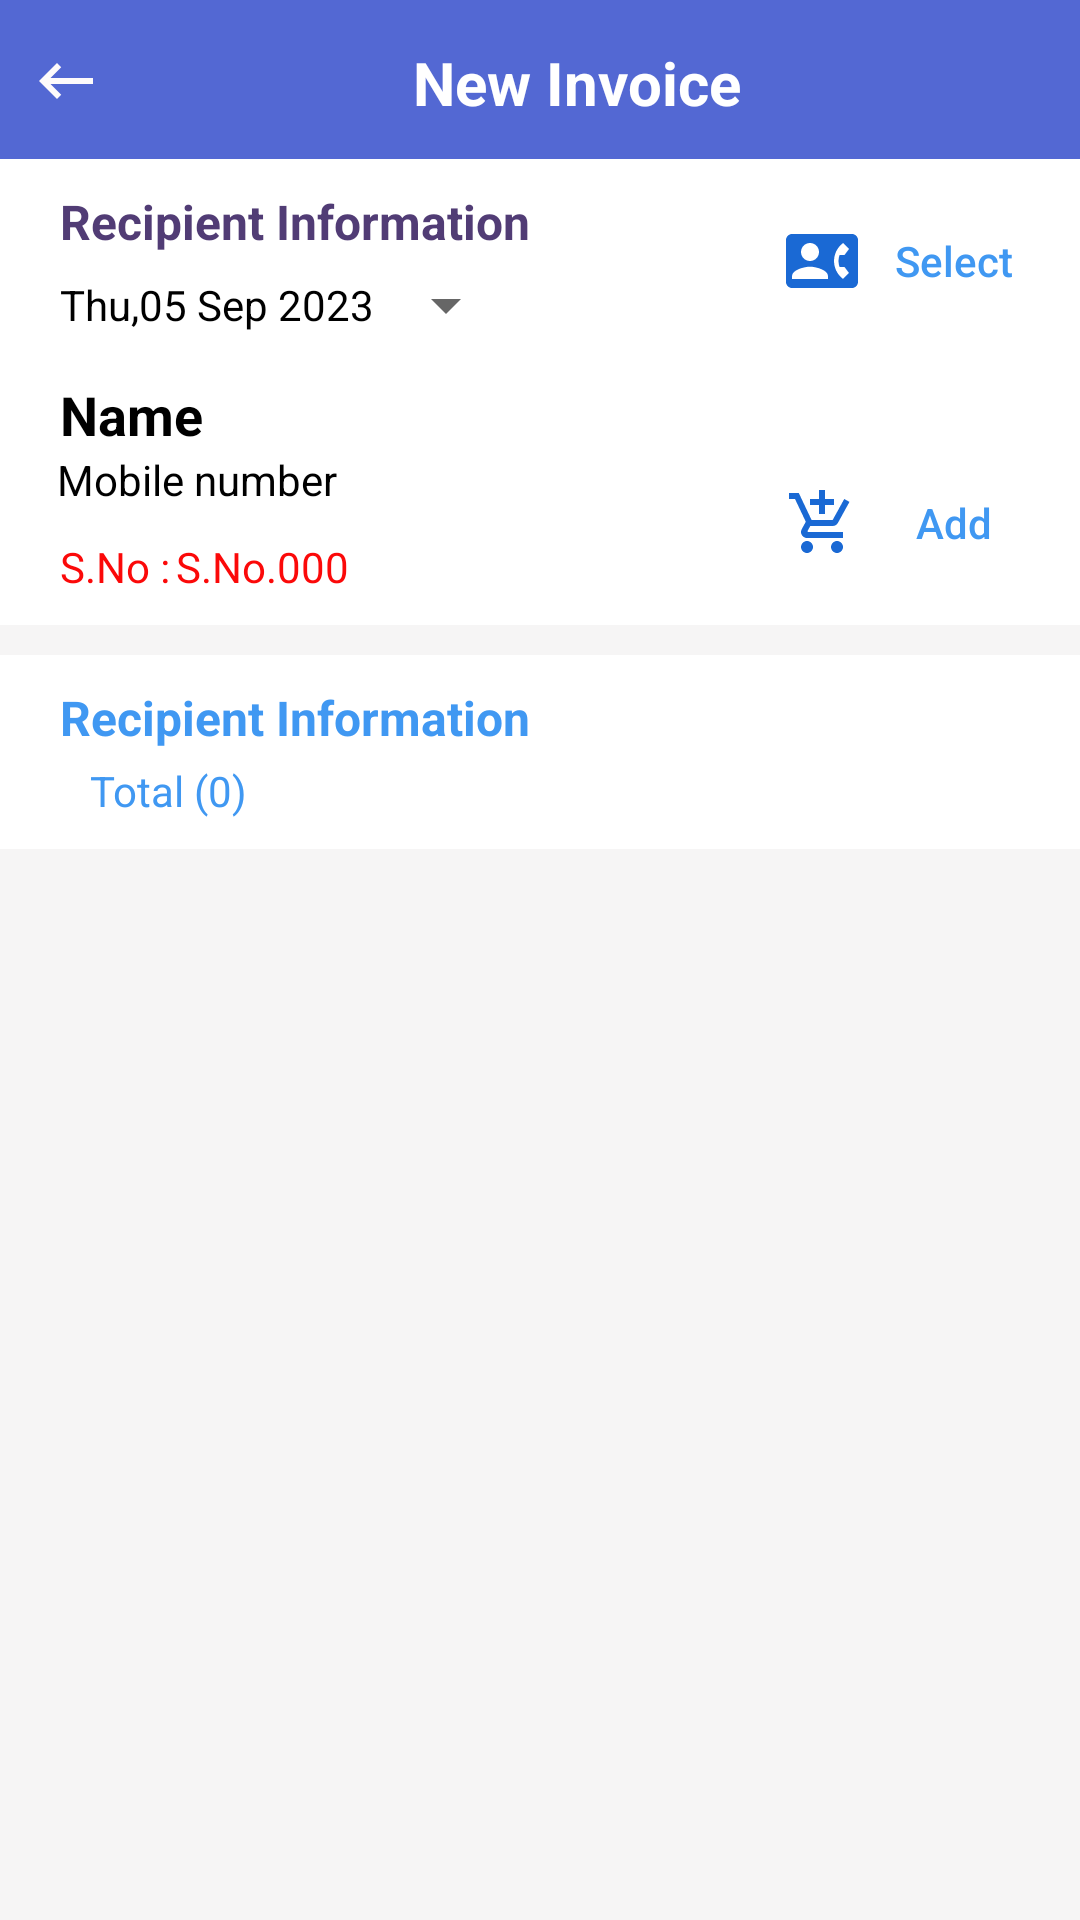

Where to tap for icons on this 1080 x 1920 app screen, as [x,y]:
back: [66,81]
